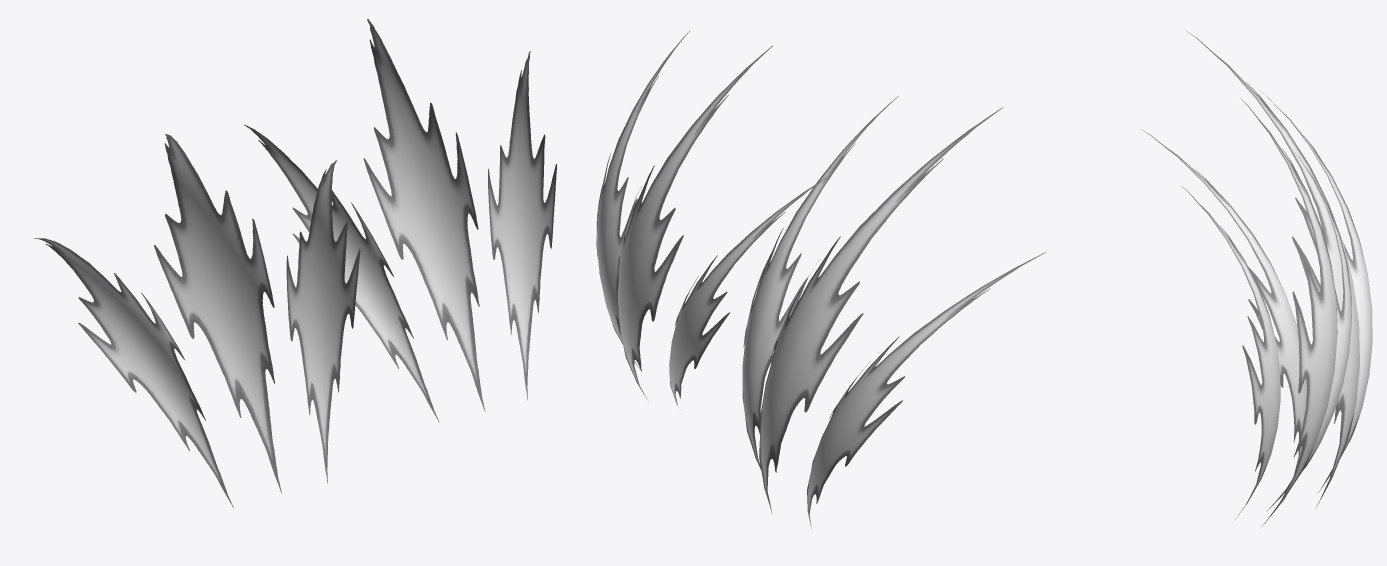
File: fx_m10220_skill02.fbx
3 views of the same model, side by side, from view 1: azimuth 30°, elevation 25°; view 2: azimuth 150°, elevation 25°; view 3: azimuth 270°, elevation 25° (orthographic). The views are drawn at different scales.
Visible parts, largest first — view 1: R_trail_bite_01, L_trail_bite_01; view 2: R_trail_bite_01, L_trail_bite_01; view 3: L_trail_bite_01, R_trail_bite_01.
Boxes of the visible parts, box(x1,y1,x2,y2) form: R_trail_bite_01: box(34, 134, 360, 507); L_trail_bite_01: box(244, 18, 556, 422); R_trail_bite_01: box(742, 96, 1046, 528); L_trail_bite_01: box(596, 30, 828, 405); L_trail_bite_01: box(1181, 98, 1351, 526); R_trail_bite_01: box(1140, 31, 1372, 507).
Size of the model in its own units: 523 by 498 by 253.
Materials: 2 (2 with a texture image).
